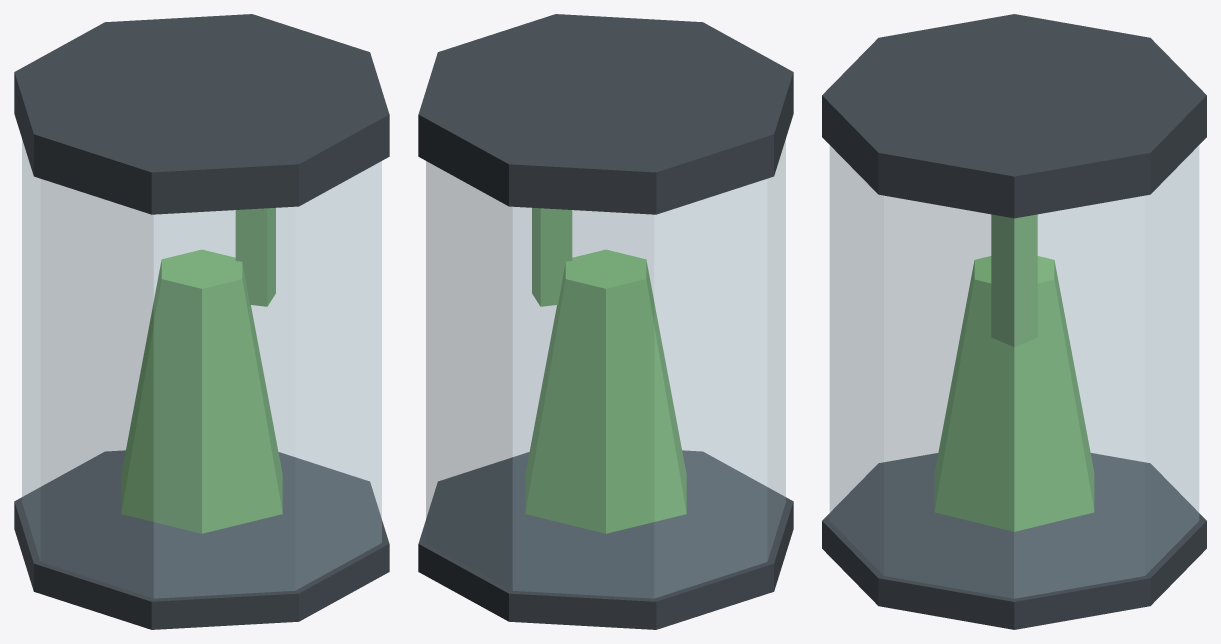
Rendered from SH_SpecimenJar_01.glb.
3 renders of one model, left to right at view 1: azimuth 30°, elevation 25°; view 2: azimuth 150°, elevation 25°; view 3: azimuth 270°, elevation 25°, orthographic.
Visible parts, largest first — view 1: SH_SpecimenJar_01; view 2: SH_SpecimenJar_01; view 3: SH_SpecimenJar_01.
Part boxes in pixels (x1=…): SH_SpecimenJar_01: x1=14, y1=14, x2=389, y2=629; SH_SpecimenJar_01: x1=418, y1=14, x2=793, y2=629; SH_SpecimenJar_01: x1=822, y1=14, x2=1206, y2=629.
Bounding box in the file's own units: 0.25 × 0.325 × 0.25.
2 materials, 2 textured.
